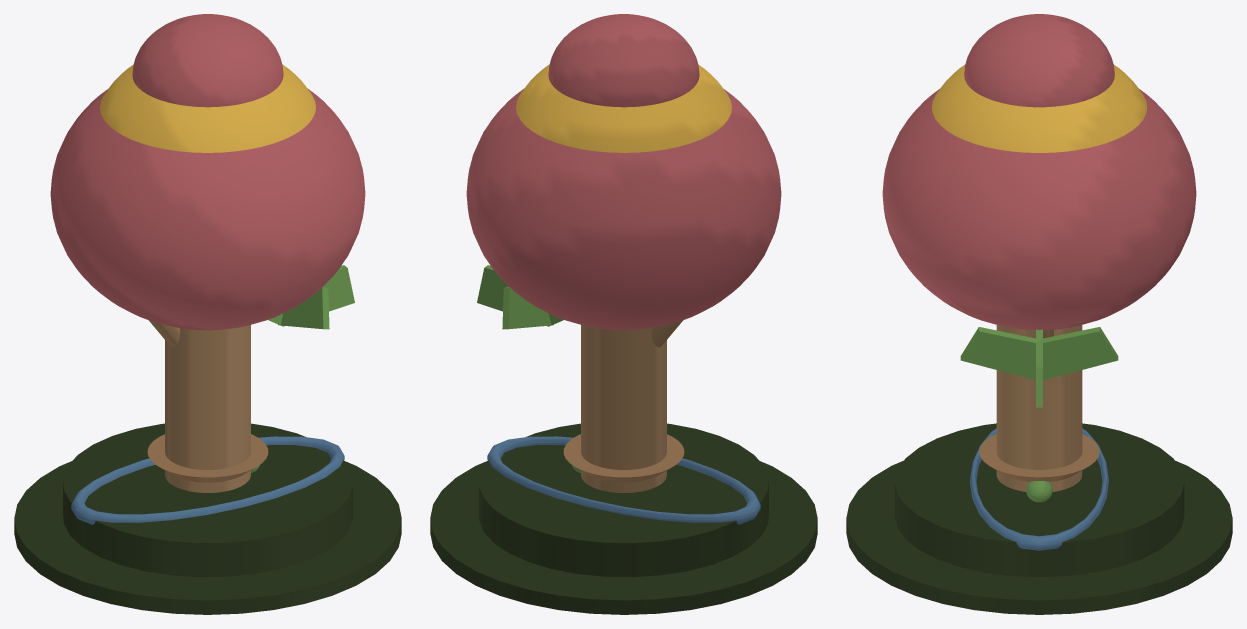
File: 0088_植物图鉴_毛竹.glb
3 renders of one model, left to right at view 1: azimuth 30°, elevation 25°; view 2: azimuth 150°, elevation 25°; view 3: azimuth 270°, elevation 25°, orthographic.
Parts seen in each view (by area): view 1: card_0088; view 2: card_0088; view 3: card_0088.
Boxes of the visible parts, x1,y1,x2,y2 form: card_0088: [14, 14, 401, 614]; card_0088: [430, 14, 817, 614]; card_0088: [846, 14, 1232, 614].
Bounding box in the file's own units: 0.6891 × 1 × 0.6866.
